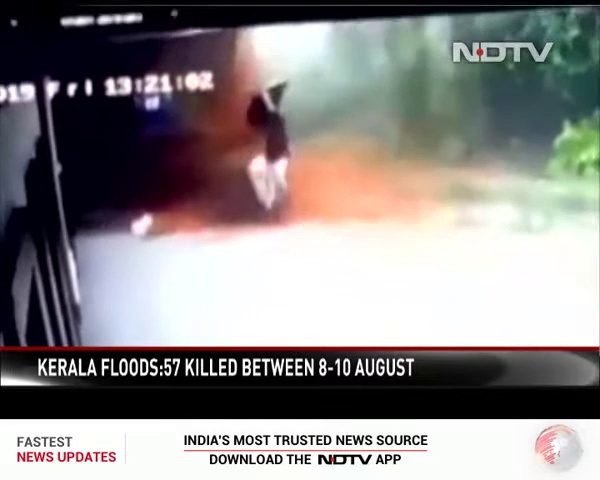person: (244, 88, 292, 221)
